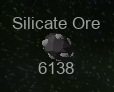Silicate: (12, 15, 102, 75)
